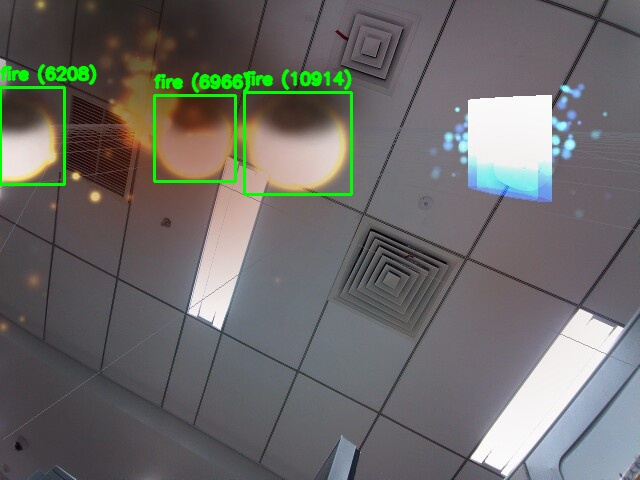fire: (244, 92, 351, 194), (154, 95, 235, 181), (0, 87, 64, 184)
